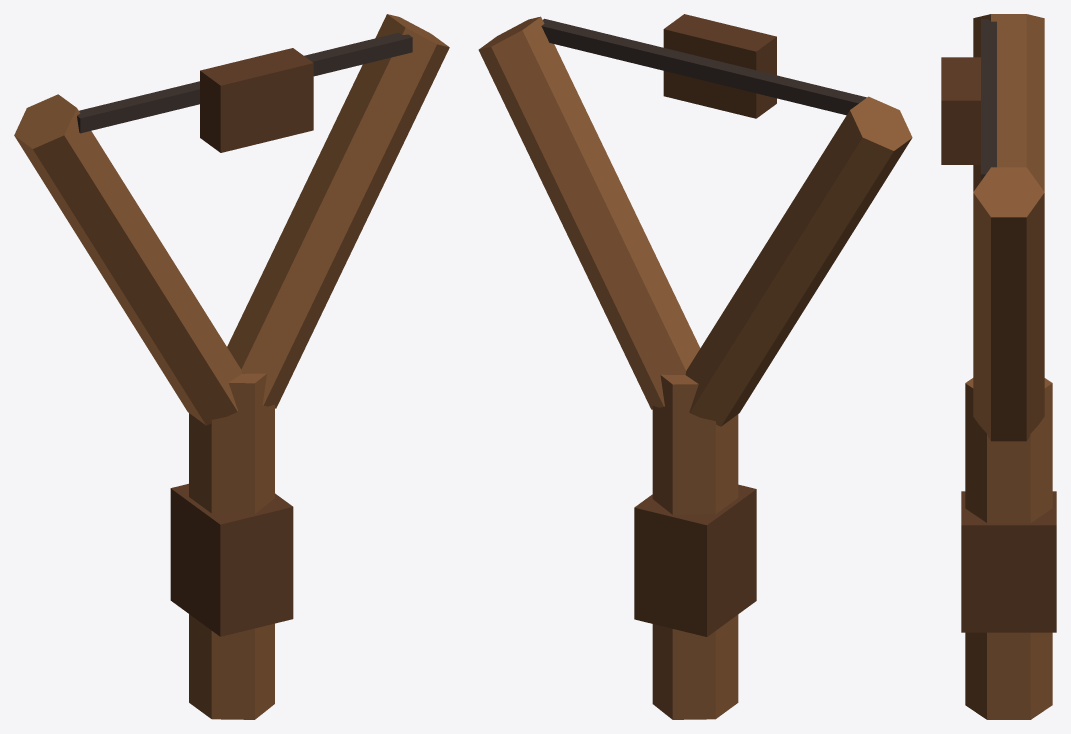
The model's file is Slingshot.fbx.
The picture shows the model from 3 angles, left to right: view 1: azimuth 30°, elevation 25°; view 2: azimuth 150°, elevation 25°; view 3: azimuth 270°, elevation 25°; orthographic projection. The views are drawn at different scales.
Visible parts, largest first — view 1: Slingshot; view 2: Slingshot; view 3: Slingshot.
Boxes of the visible parts, x1=… form: Slingshot: x1=14, y1=14, x2=449, y2=719; Slingshot: x1=478, y1=14, x2=912, y2=719; Slingshot: x1=941, y1=14, x2=1056, y2=719.
Bounding box in the file's own units: 1.2 × 1.8 × 0.3.
